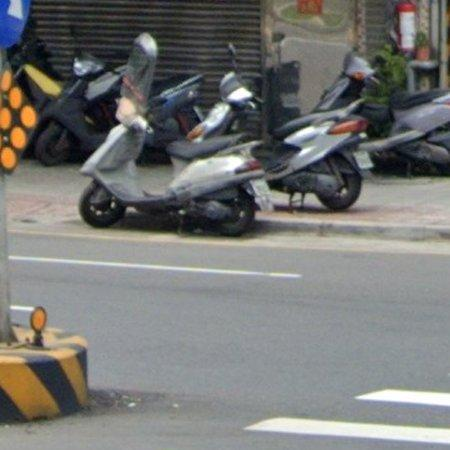motorcycles: (80, 33, 264, 234)
